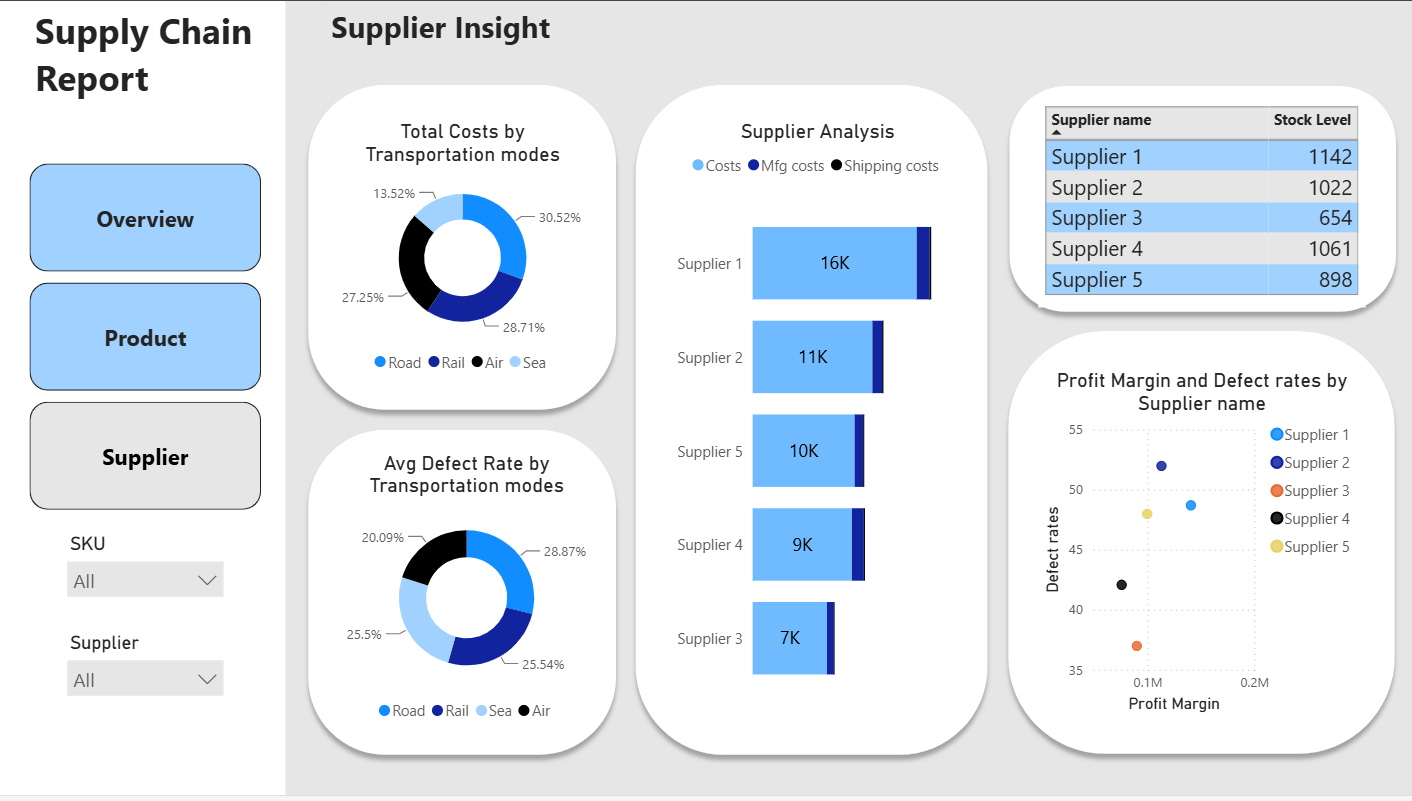

What the dashboard file says about the page in this screenshot:
{"tool":"powerbi","page":{"name":"Supplier","canvas":[1280,720],"ordinal":2},"visuals":[{"type":"shape","box":[225.9,0,1054.1,720.2],"z":0},{"type":"shape","box":[264.3,67.1,297.1,312.9],"z":1000},{"type":"shape","box":[0,0,252.5,720],"z":2000},{"type":"textbox","box":[289.5,0,263.5,63.1],"z":3000},{"type":"shape","box":[264.3,380,297.1,312.9],"z":4000},{"type":"shape","box":[561.4,67.1,337.1,625.7],"z":5000},{"type":"shape","box":[898.6,290,368.6,401.4],"z":6000},{"type":"donutChart","fields":{"Y":["Measures_.Total Costs"],"Category":["supply_chain_data.Transportation modes"]},"box":[294.3,107.1,237.1,238.6],"z":7000},{"type":"donutChart","title":"Avg Defect Rate by Transportation modes","fields":{"Category":["supply_chain_data.Transportation modes"],"Y":["Measures_.Avg Defect Rate %"]},"box":[302.9,408.6,228.6,254.3],"z":8000},{"type":"barChart","title":"Supplier Analysis","fields":{"Category":["supply_chain_data.Supplier name"],"Y":["Sum(supply_chain_data.Costs)","Sum(supply_chain_data.Mfg costs)","Sum(supply_chain_data.Shipping costs)"]},"box":[597.1,107.1,275.7,544.3],"z":9000},{"type":"shape","box":[900,68.6,368.6,222.9],"z":10000},{"type":"scatterChart","fields":{"X":["Sum(supply_chain_data.Profit Margin)"],"Series":["supply_chain_data.Supplier name"],"Y":["Sum(supply_chain_data.Defect rates)"]},"box":[935.7,332.9,297.1,317.1],"z":11000},{"type":"tableEx","fields":{"Values":["supply_chain_data.Supplier name","Measures_.Stock Level"]},"box":[935.5,90.5,297.1,187.1],"z":12000},{"type":"pageNavigator","box":[20,147.1,210,315.7],"z":13000},{"type":"slicer","fields":{"Values":["supply_chain_data.SKU"]},"box":[43.9,477.5,161.9,70],"z":14000},{"type":"slicer","fields":{"Values":["supply_chain_data.Supplier name"]},"box":[43.9,566.7,161.9,70],"z":15000},{"type":"textbox","box":[20.6,0,219.6,101.5],"z":16000}]}

Visuals, with their boxes in screenshot pixels (x1, y1, x2, y2), scaled from the page's 1280x720 canvas onto the 1412x801 screenshot:
shape: [249,0,1411,800]
shape: [292,75,619,423]
shape: [0,0,279,800]
textbox: [319,0,610,70]
shape: [292,423,619,771]
shape: [619,75,991,771]
shape: [991,323,1398,769]
donutChart - Measures_.Total Costs x supply_chain_data.Transportation modes: [325,119,586,385]
"Avg Defect Rate by Transportation modes" donutChart: [334,455,586,737]
"Supplier Analysis" barChart: [659,119,963,725]
shape: [993,76,1399,324]
scatterChart - Sum(supply_chain_data.Profit Margin) x supply_chain_data.Supplier name: [1032,370,1360,723]
tableEx - supply_chain_data.Supplier name x Measures_.Stock Level: [1032,101,1360,309]
pageNavigator: [22,164,254,515]
slicer - supply_chain_data.SKU: [48,531,227,609]
slicer - supply_chain_data.Supplier name: [48,630,227,708]
textbox: [23,0,265,113]
